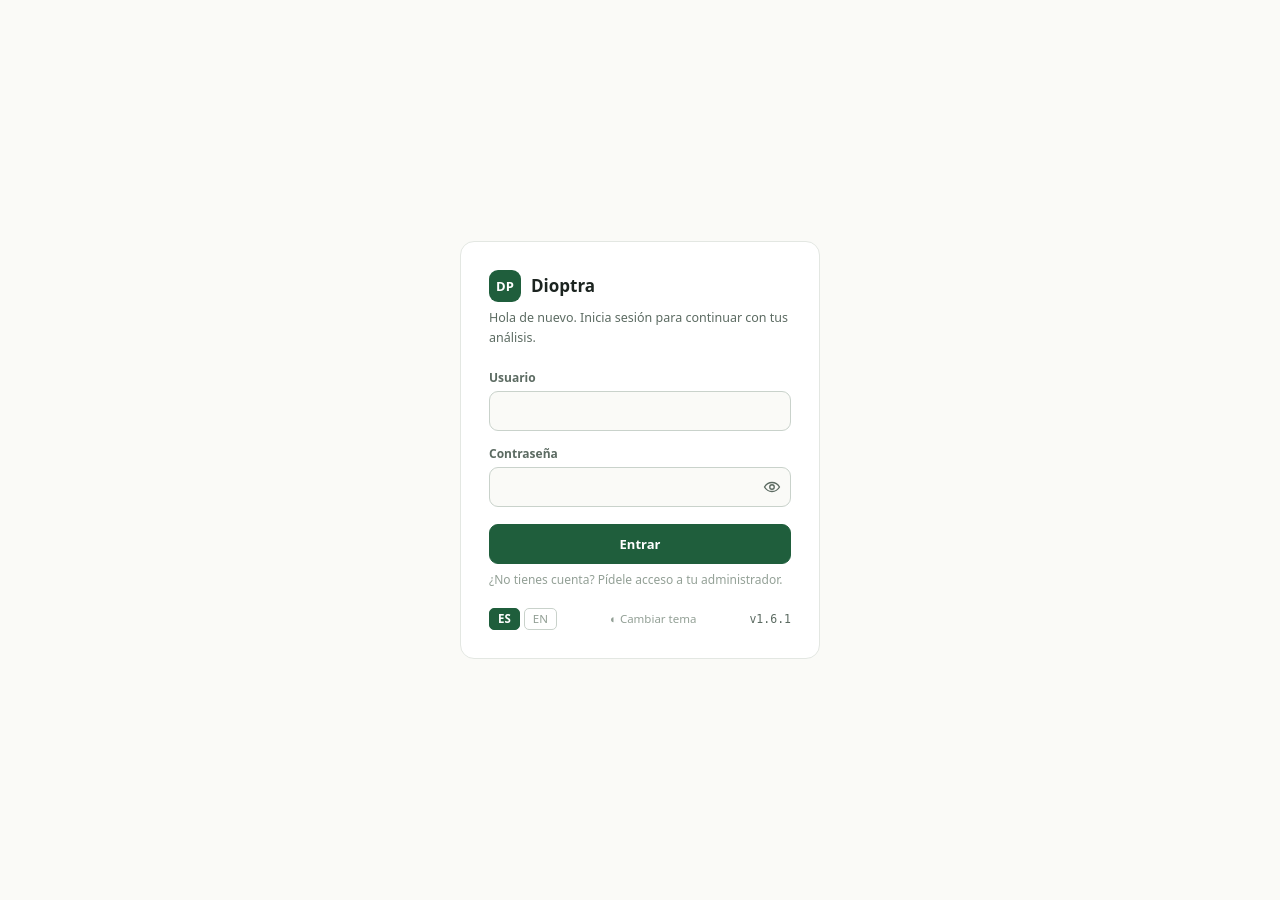
Test: case design screen › draws the diagram from the layout with hostile labels as text
Type "cperez" into the field labelled "Usuario" at (640, 411), box [489,391,791,431]
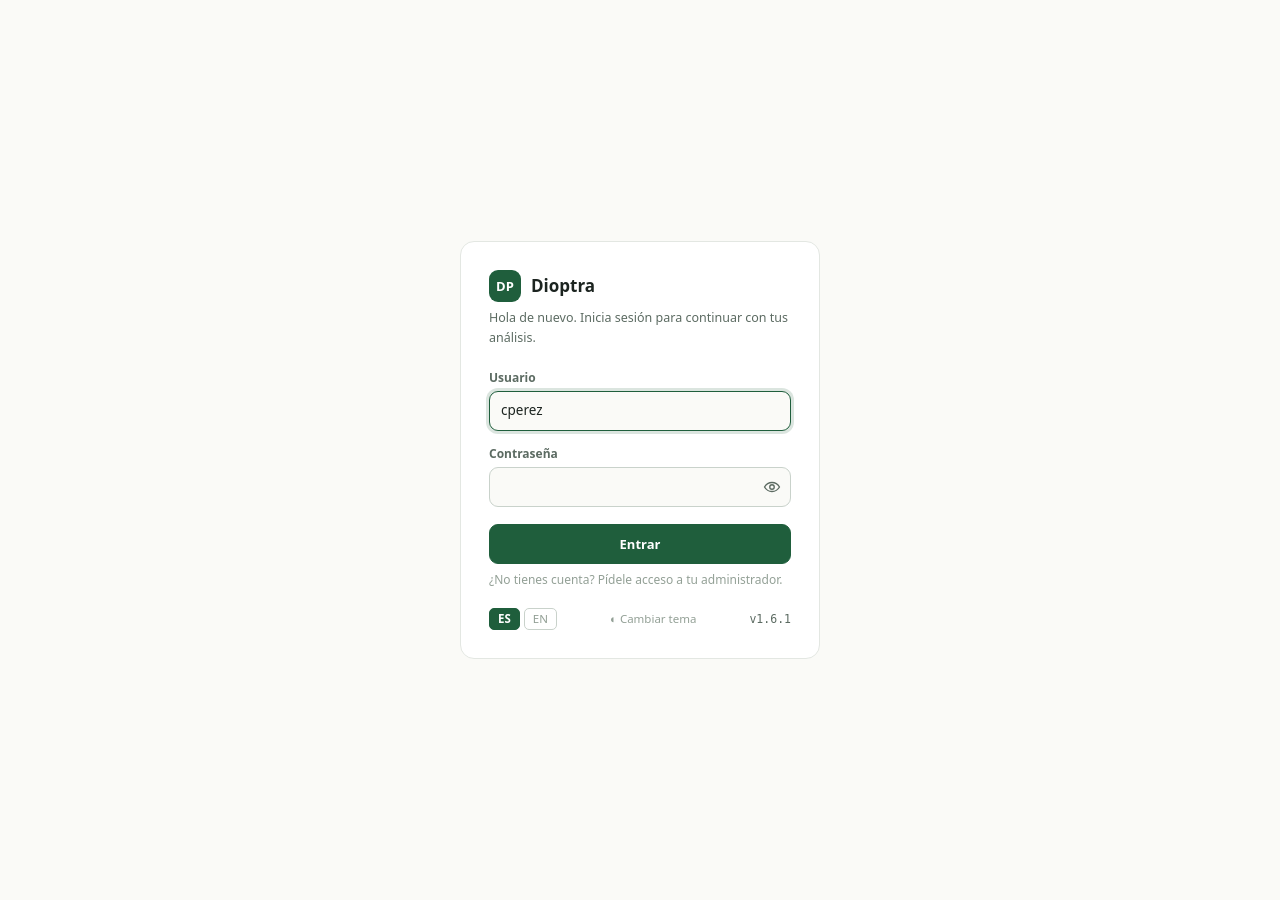
Type "correct-horse-battery-staple" into the password field labelled "Contraseña" at (640, 487), box [489,467,791,507]
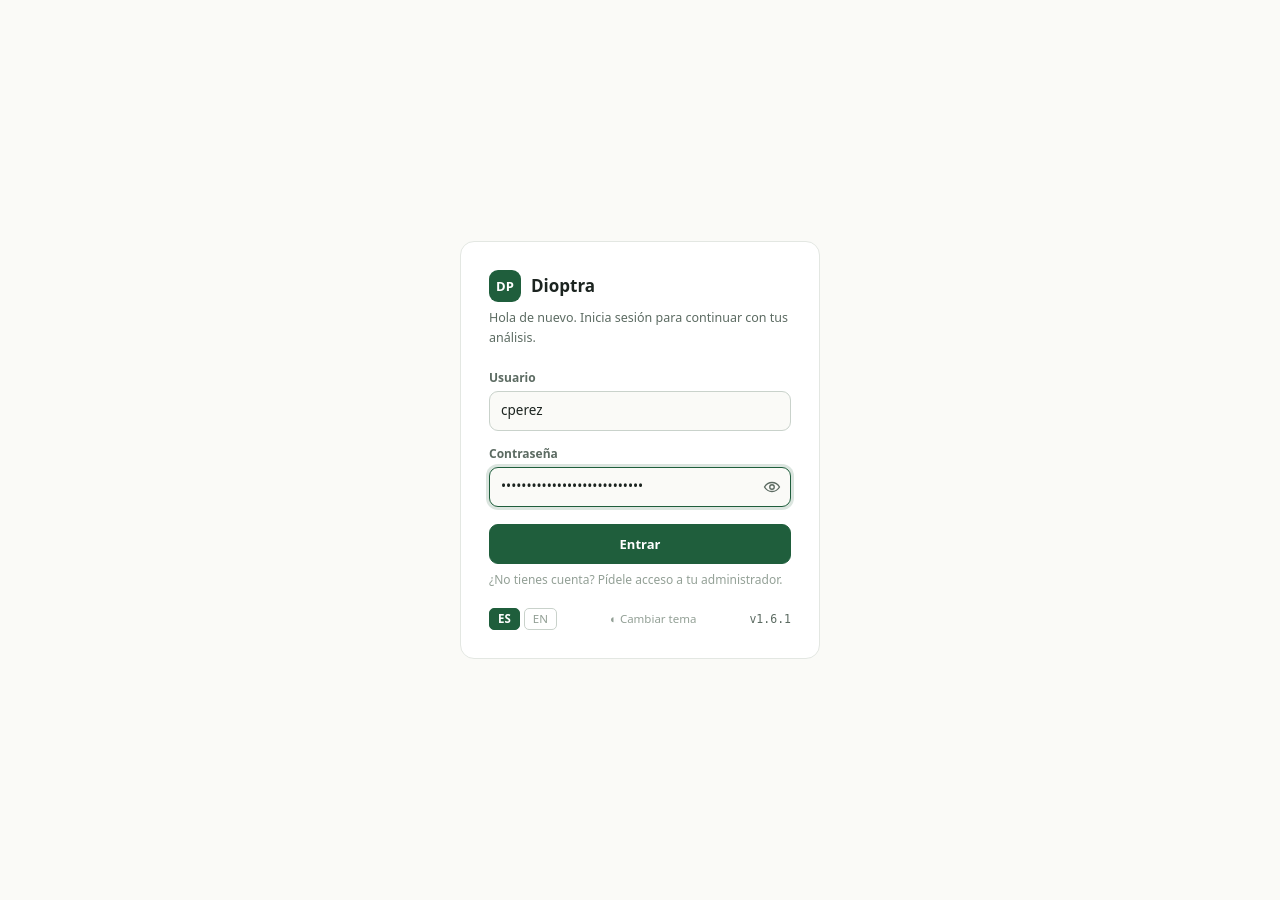
Click the button "Entrar" at (640, 544), box [489,524,791,564]
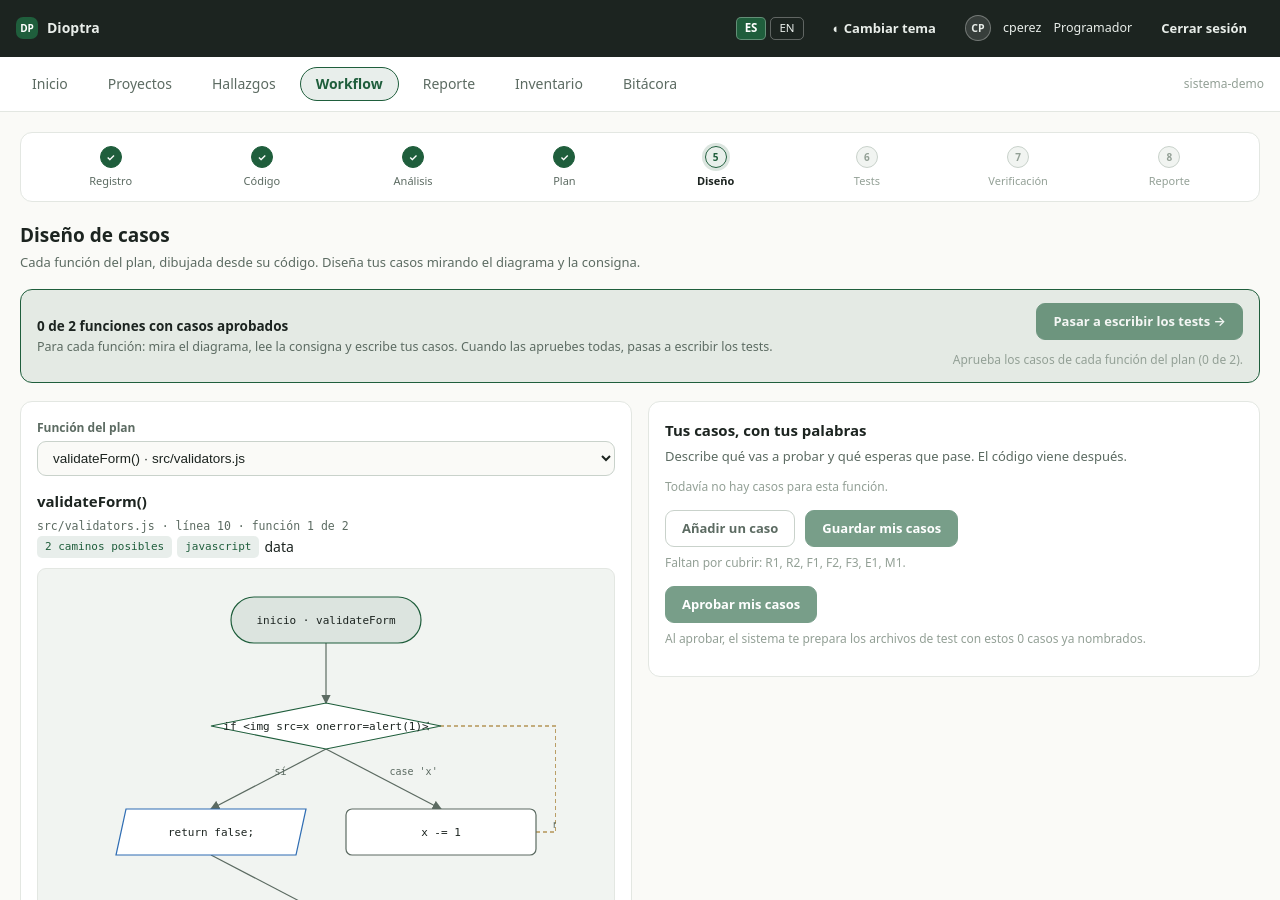
Check: the list item "Diseño" is shown, box [697,173,734,188]
